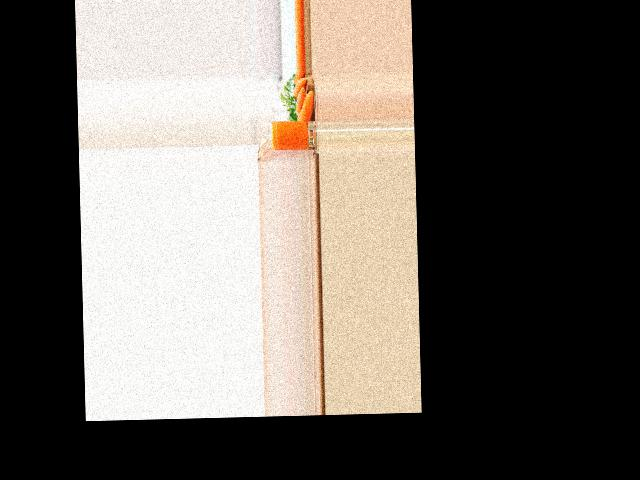carrot: (294, 77, 304, 103)
